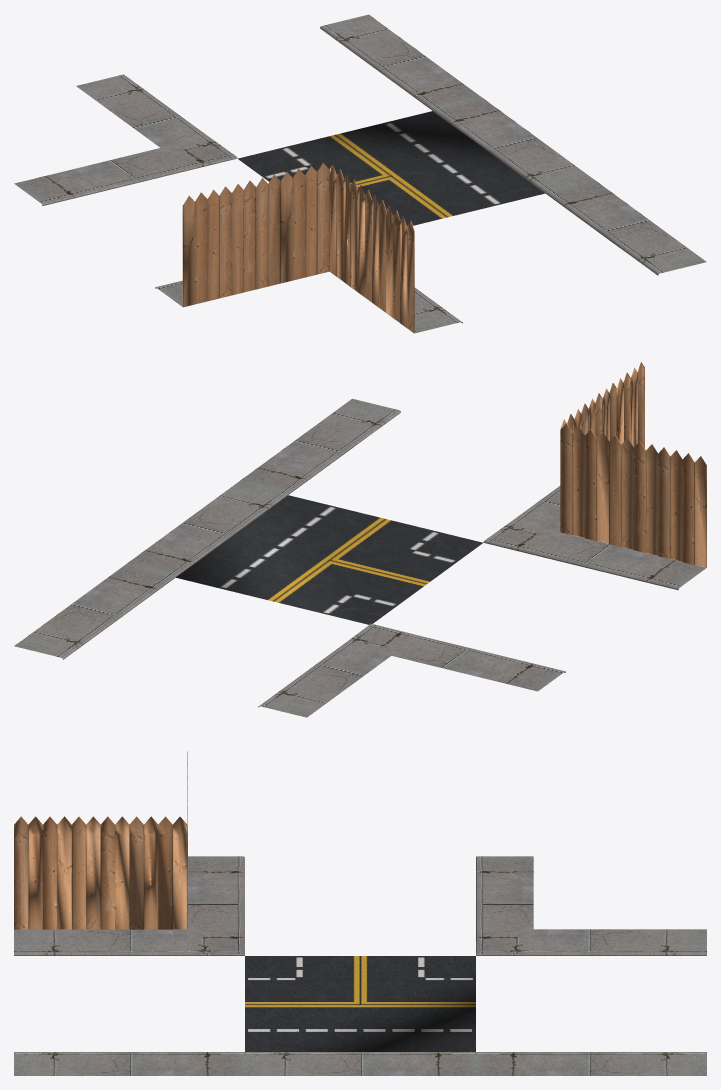
The model's file is road_intersection_fence_0_0_1.obj.
3 views of the same model, one above another, from view 1: azimuth 30°, elevation 25°; view 2: azimuth 150°, elevation 25°; view 3: azimuth 270°, elevation 25° (orthographic). The views are drawn at different scales.
Parts seen in each view (by area): view 1: ROAD_TILE_Plane.016; view 2: ROAD_TILE_Plane.016; view 3: ROAD_TILE_Plane.016.
Part boxes in pixels (x1=…): ROAD_TILE_Plane.016: x1=14, y1=14, x2=706, y2=333; ROAD_TILE_Plane.016: x1=14, y1=362, x2=706, y2=717; ROAD_TILE_Plane.016: x1=14, y1=751, x2=706, y2=1075.
Size of the model in its own units: 45.01 by 11.01 by 60.
